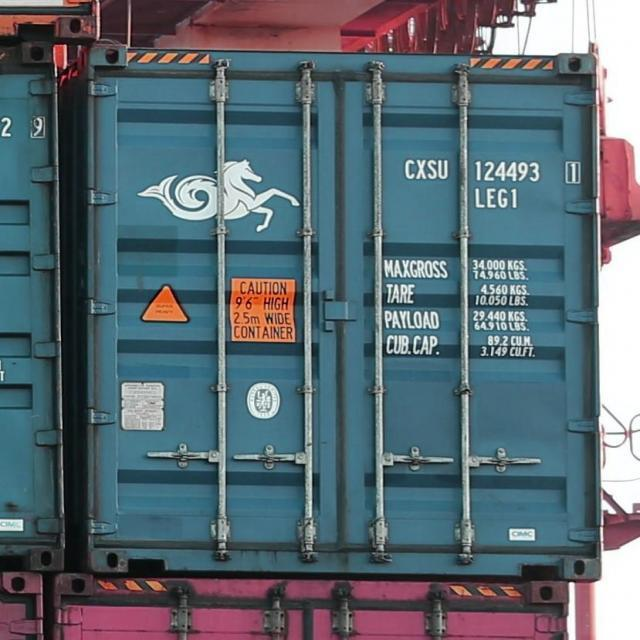ISO: (476, 187, 522, 210)
container_number: (409, 160, 569, 186)
